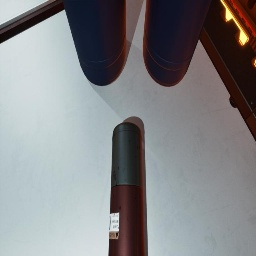NitrogenTank ,: (108, 122, 145, 256)
